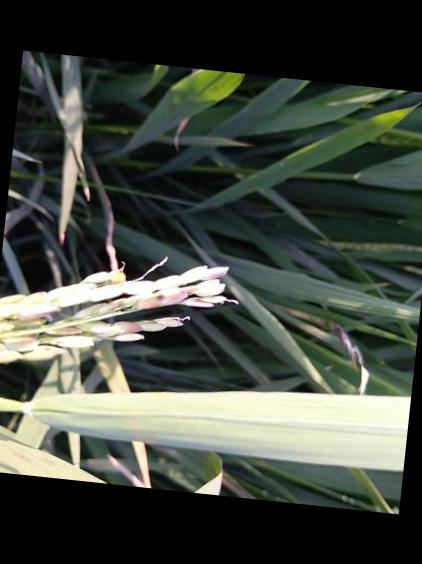Panicle Blight: (69, 289, 189, 318), (17, 307, 58, 319), (43, 326, 91, 336), (4, 336, 37, 349), (199, 267, 227, 281), (117, 322, 140, 331)
